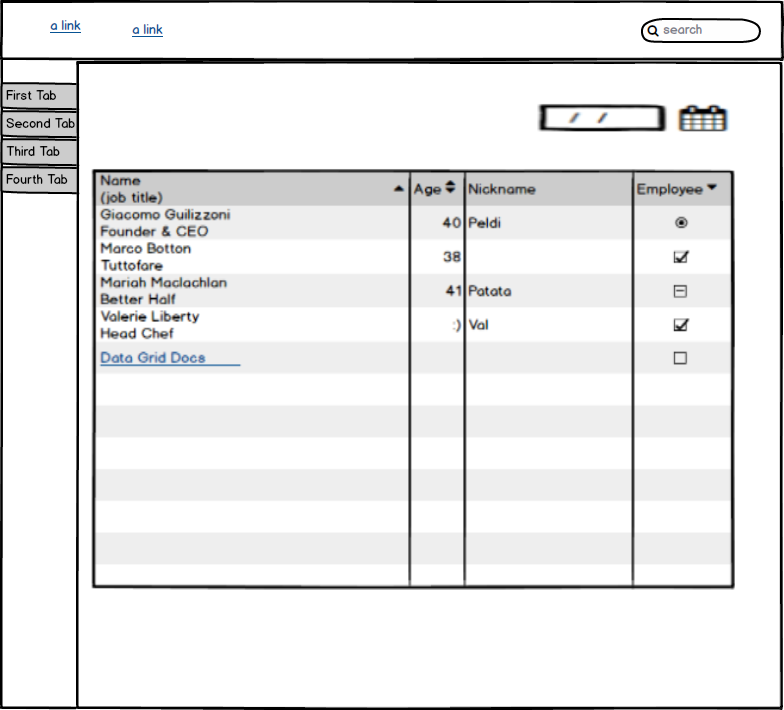date_picker: (532, 99, 732, 138)
navlink: (124, 12, 173, 48), (41, 12, 94, 40)
search: (636, 12, 766, 50)
sidebar: (1, 73, 85, 198)
table: (87, 161, 742, 594)
